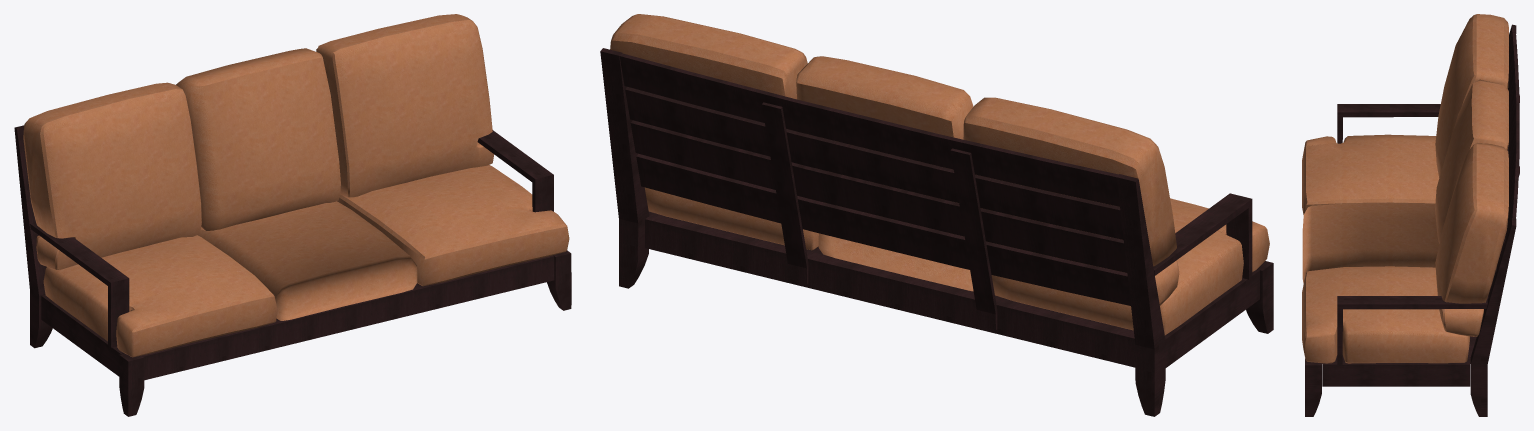
Rendered from sofa.FBX.
The picture shows the model from 3 angles, left to right: view 1: azimuth 30°, elevation 25°; view 2: azimuth 150°, elevation 25°; view 3: azimuth 270°, elevation 25°; orthographic projection. The views are drawn at different scales.
Parts seen in each view (by area): view 1: sofa; view 2: sofa; view 3: sofa.
Part boxes in pixels (<box>): sofa: <box>14,14,571,416</box>; sofa: <box>600,14,1273,416</box>; sofa: <box>1302,14,1519,416</box>.
Bounding box in the file's own units: 64.67 × 31.83 × 29.66.
2 materials, 2 textured.
